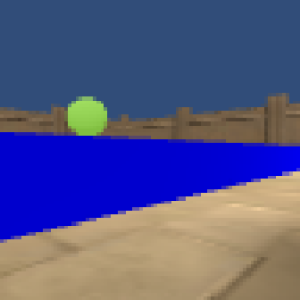goodGoal: (65, 95, 110, 138)
platform: (1, 135, 297, 242)
